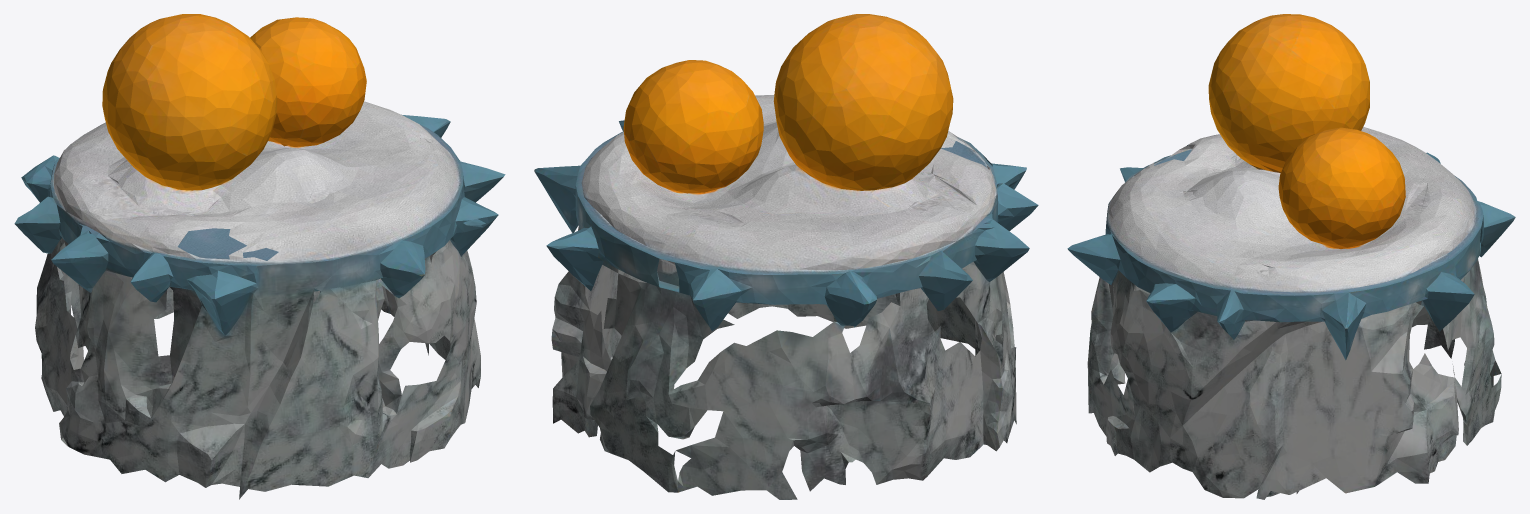
Rendered from golden.glb.
3 views of the same model, side by side, from view 1: azimuth 30°, elevation 25°; view 2: azimuth 150°, elevation 25°; view 3: azimuth 270°, elevation 25° (orthographic). The views are drawn at different scales.
Visible parts, largest first — view 1: geometry_0; view 2: geometry_0; view 3: geometry_0.
Part boxes in pixels (x1,y1,x2,y2): geometry_0: (14, 14, 505, 499); geometry_0: (534, 14, 1038, 499); geometry_0: (1067, 14, 1515, 499).
Size of the model in its own units: 0.9944 by 0.8577 by 0.9515.
Materials: 1 (1 with a texture image).
